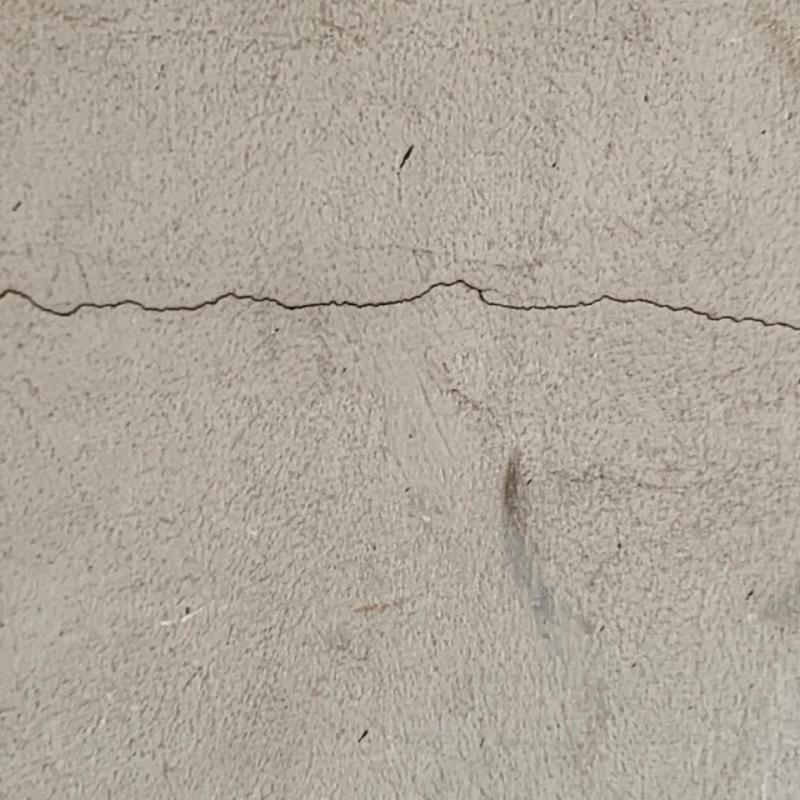pothole: (0, 266, 800, 350)
